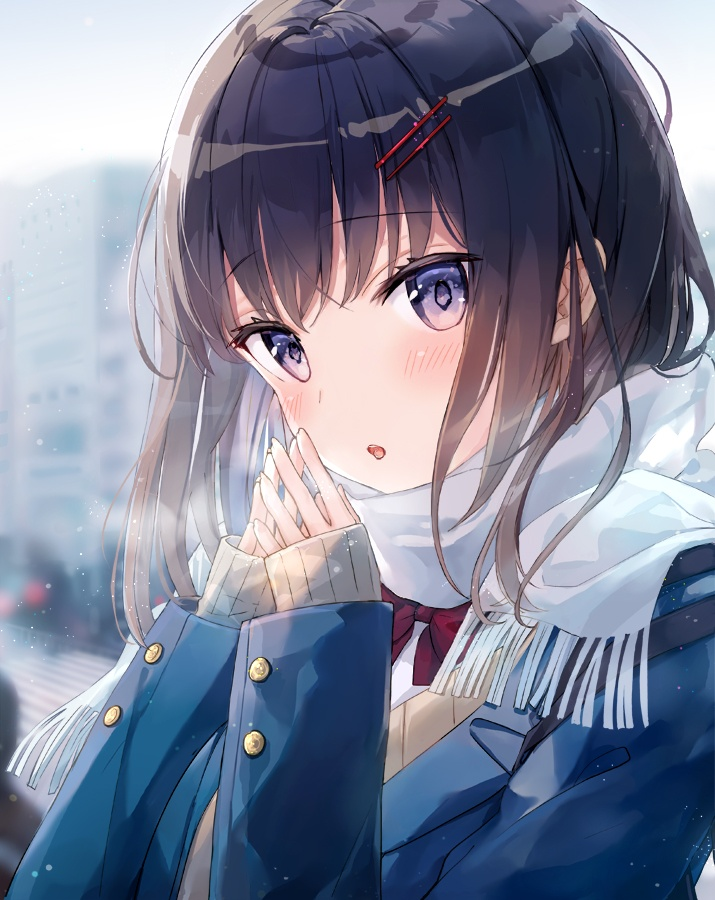纸片人正脸: (152, 0, 680, 513)
